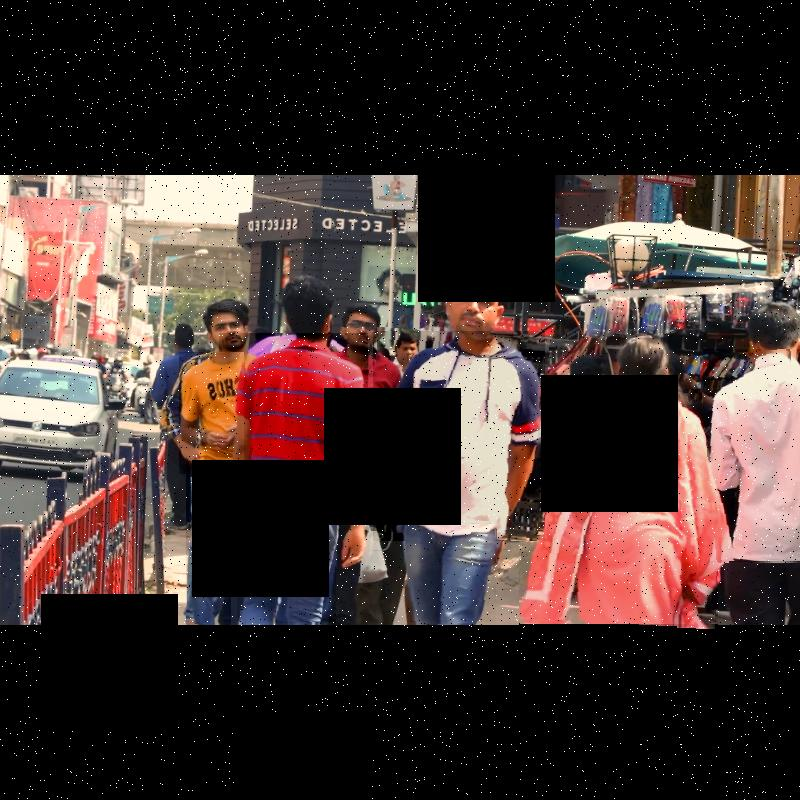Churidaar: (519, 389, 717, 627)
Jeans: (237, 512, 336, 623), (405, 525, 496, 622), (186, 462, 231, 625)
Tshirt: (373, 331, 544, 541), (219, 334, 368, 516), (179, 353, 244, 474)
shirt: (703, 349, 800, 562)
